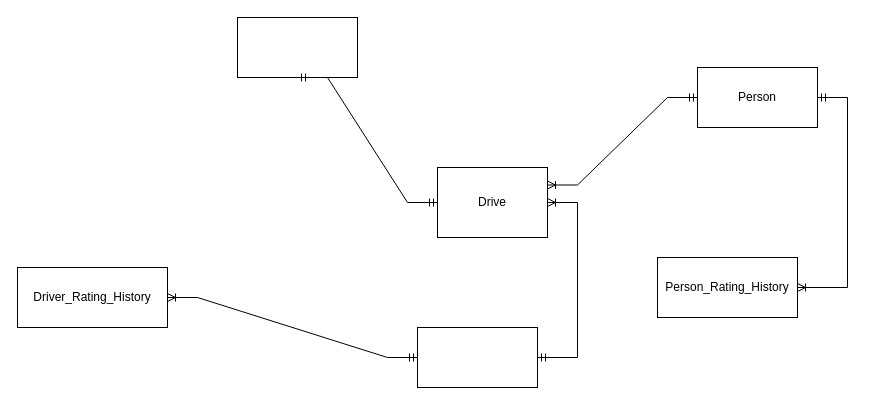
Some shapes in this 874 by 405 pixel diagram are drawn without their labels. The centre of each missing label's shape, as x and y in pixels:
Driver: the point at 477,357
Payment: the point at 297,47
